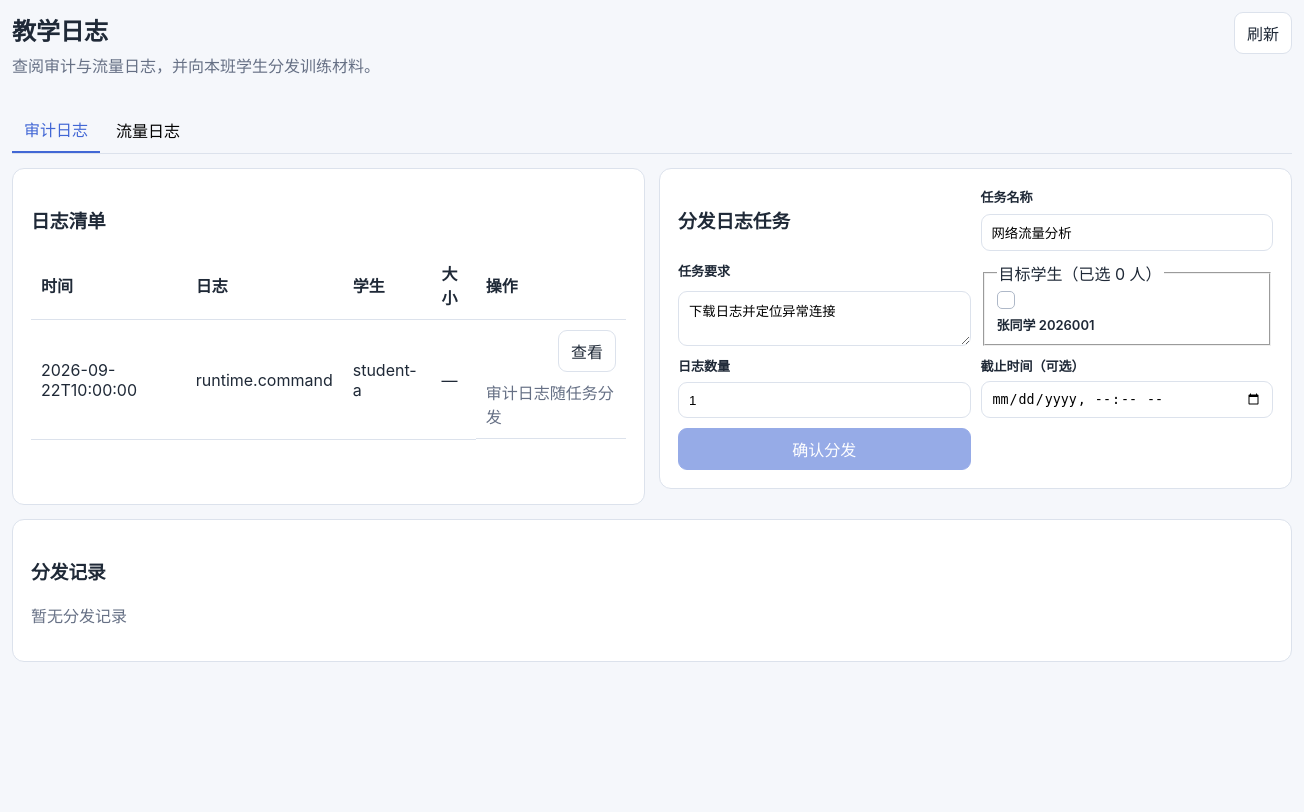
Scenario: 日志中心按所选班级和实验发布查询并从真实名单选择分发目标
Click the checkbox named "张同学 2026001": point(1006, 300) [996,291,1014,309]
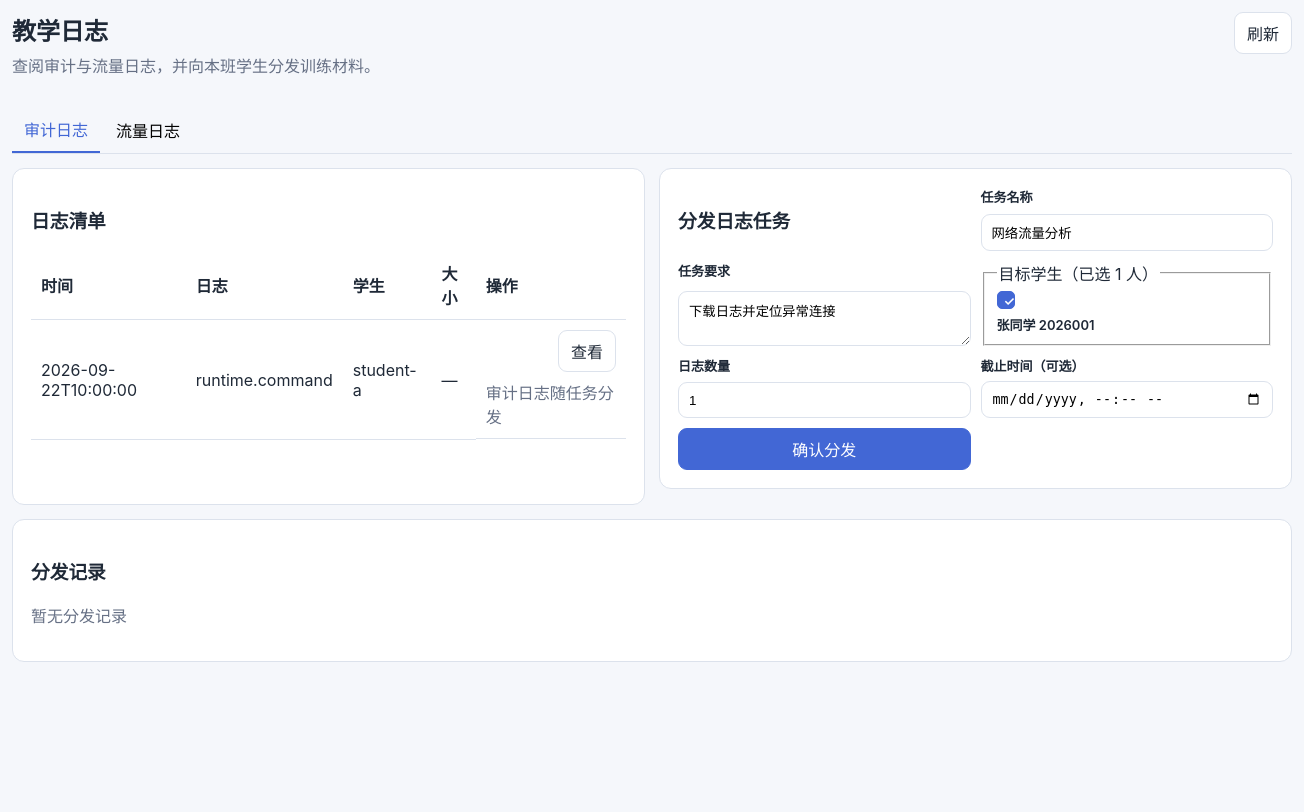
Submit the form, box [659,168,1292,489]
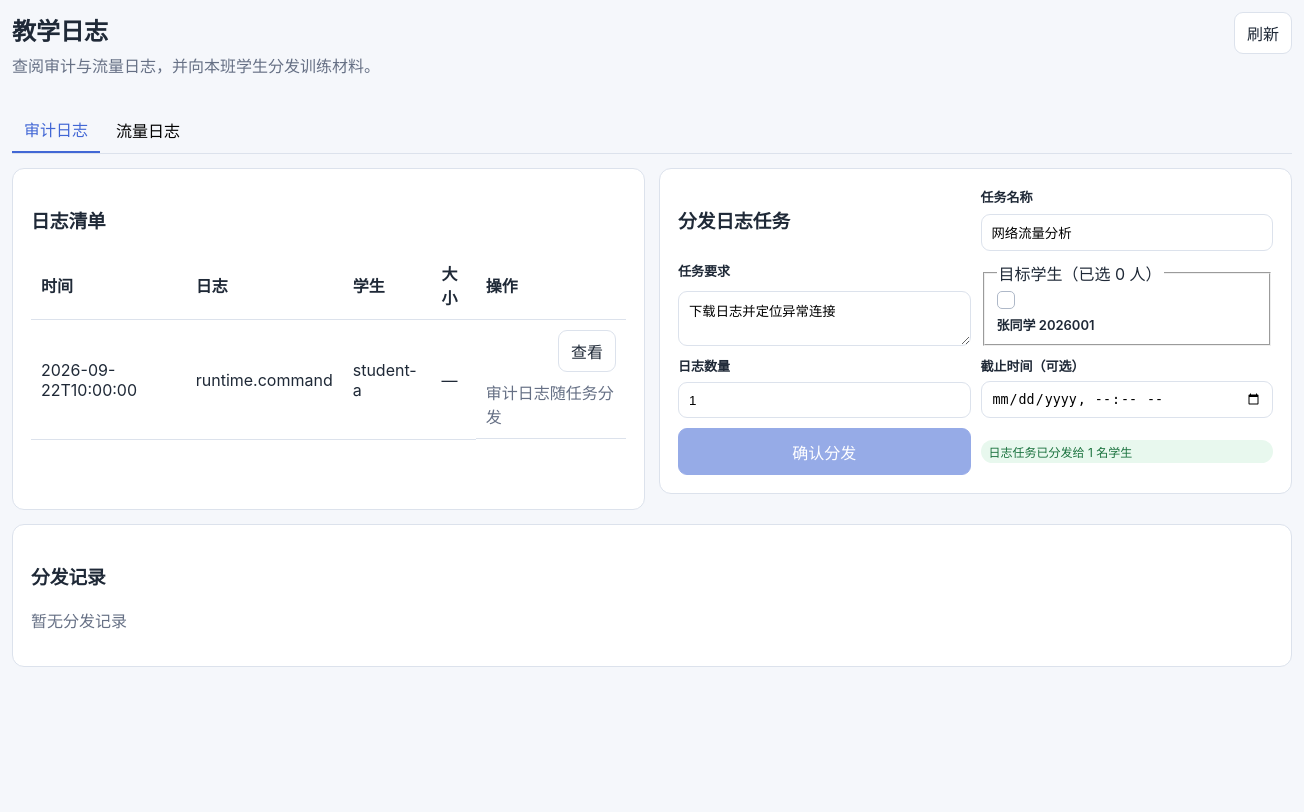
Expected: the text "日志任务已分发给 1 名学生" is shown, [980,440,1273,463]
